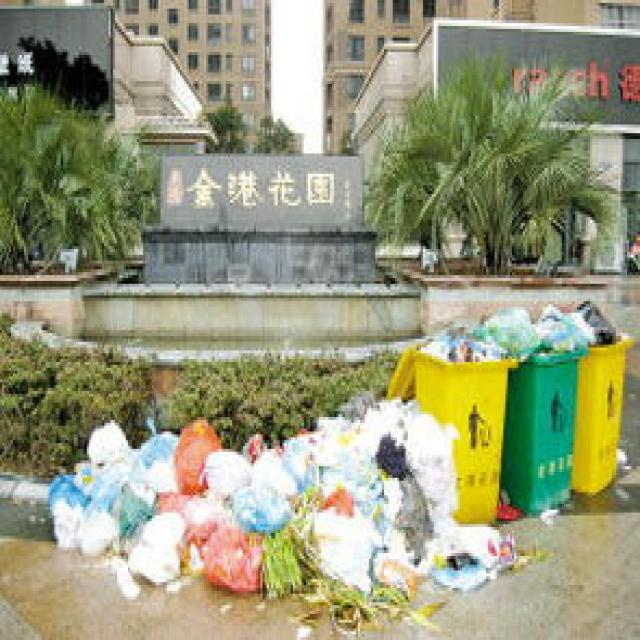garbage: (45, 394, 523, 637)
overflow: (412, 322, 516, 522), (499, 301, 588, 513), (568, 298, 634, 492)
